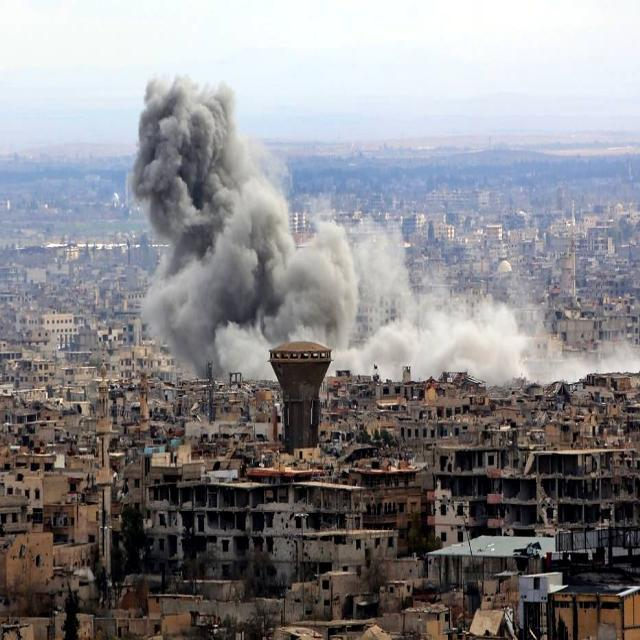Smoke: (126, 66, 305, 390), (295, 196, 418, 381), (418, 288, 556, 386)
